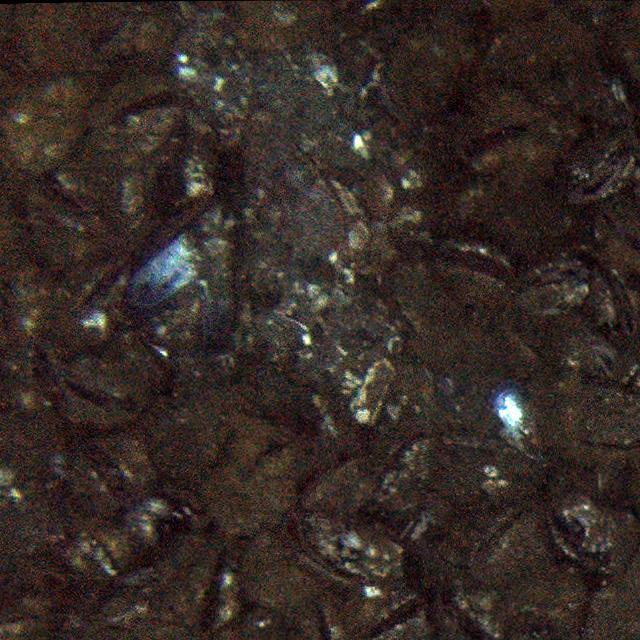crab: (232, 114, 368, 279)
